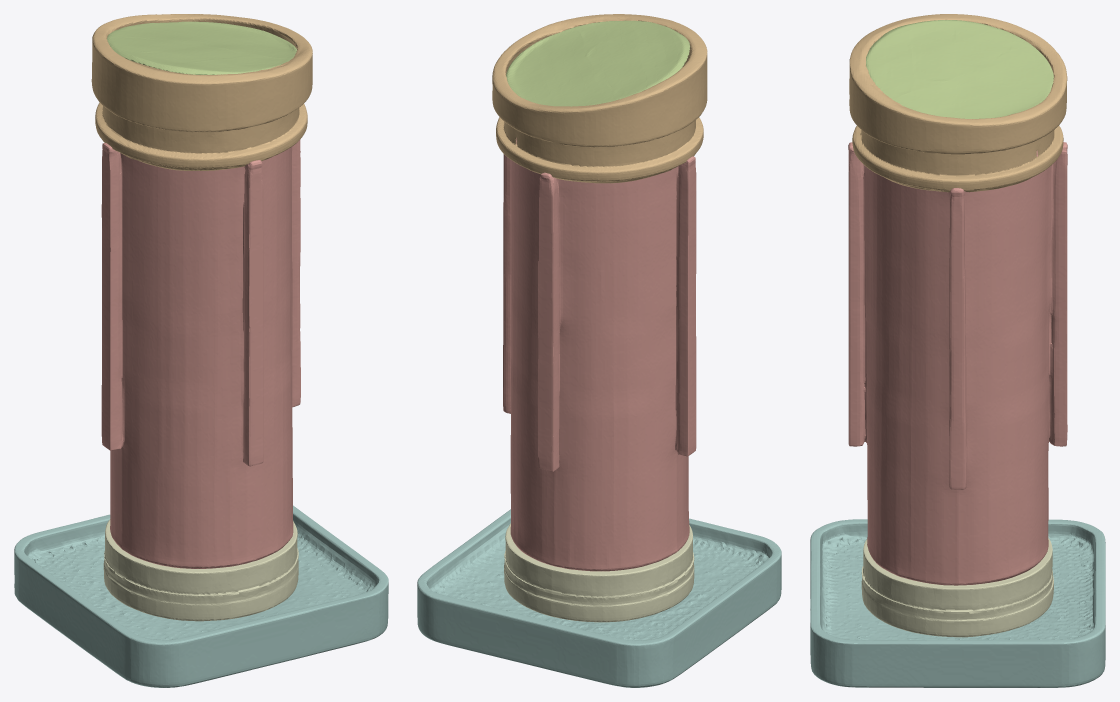
File: markmate_omnipart_optimized.glb
3 renders of one model, left to right at view 1: azimuth 30°, elevation 25°; view 2: azimuth 150°, elevation 25°; view 3: azimuth 270°, elevation 25°, orthographic. The views are drawn at different scales.
Visible parts, largest first — view 1: geometry_0; view 2: geometry_0; view 3: geometry_0.
Part boxes in pixels (bbox=[...]): geometry_0: bbox=[14, 14, 388, 687]; geometry_0: bbox=[417, 14, 781, 687]; geometry_0: bbox=[810, 14, 1105, 687].
Size of the model in its own units: 0.4645 by 0.9973 by 0.4638.
